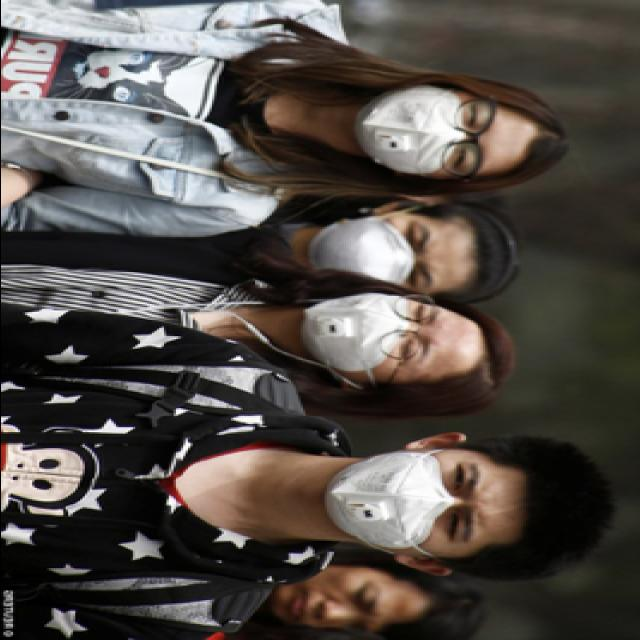with_mask: (324, 448, 496, 560), (358, 83, 503, 181), (307, 293, 453, 387), (309, 210, 448, 298)
without_mask: (269, 566, 393, 638)
